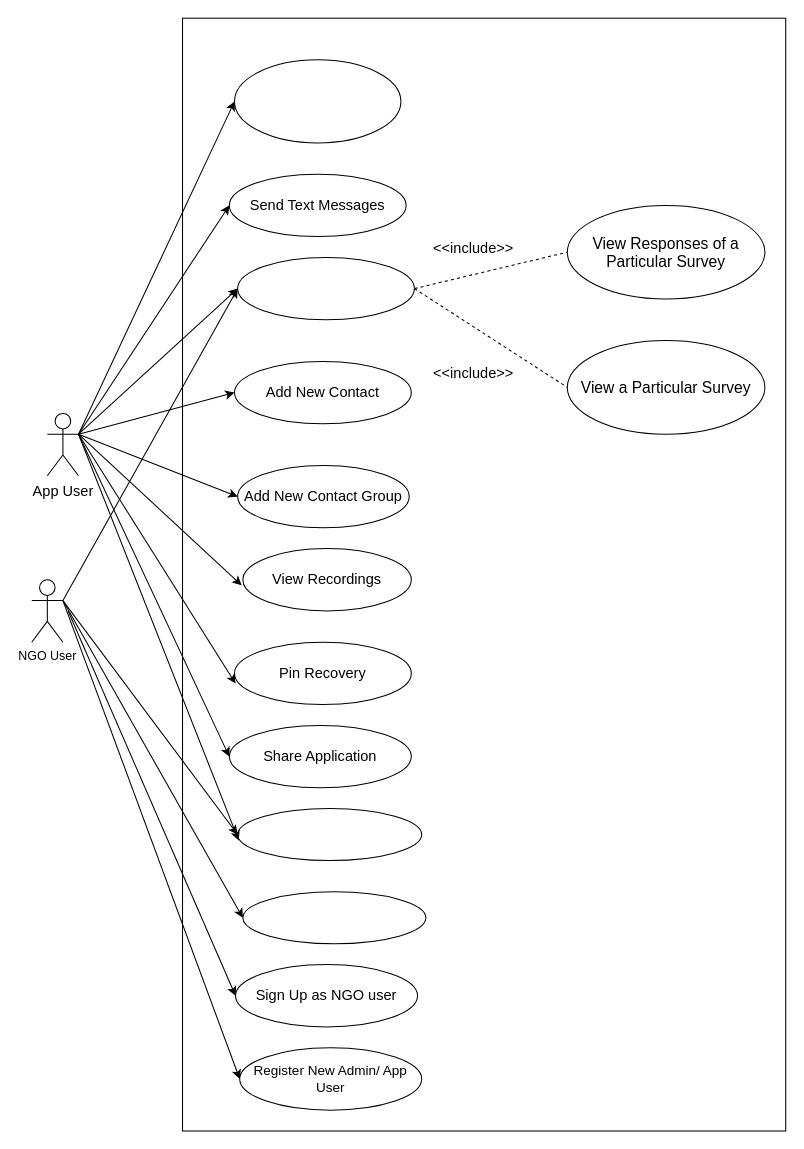
Some shapes in this 804 by 1149 pixel diagram are drawn without their labels. The shapes that lost their labels are listed below. From the top down, each one's box as (x1, y1, x2, y2) in pixels, then its label:
(233, 59, 401, 143): Record and Send Audio Announcements
(237, 256, 414, 320): Launch Surveys Dial outs
(237, 808, 422, 861): Login
(242, 891, 426, 944): View Profile
